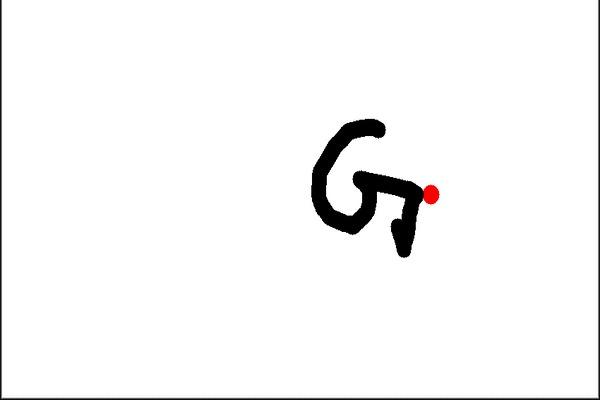G: (303, 115, 424, 262)
